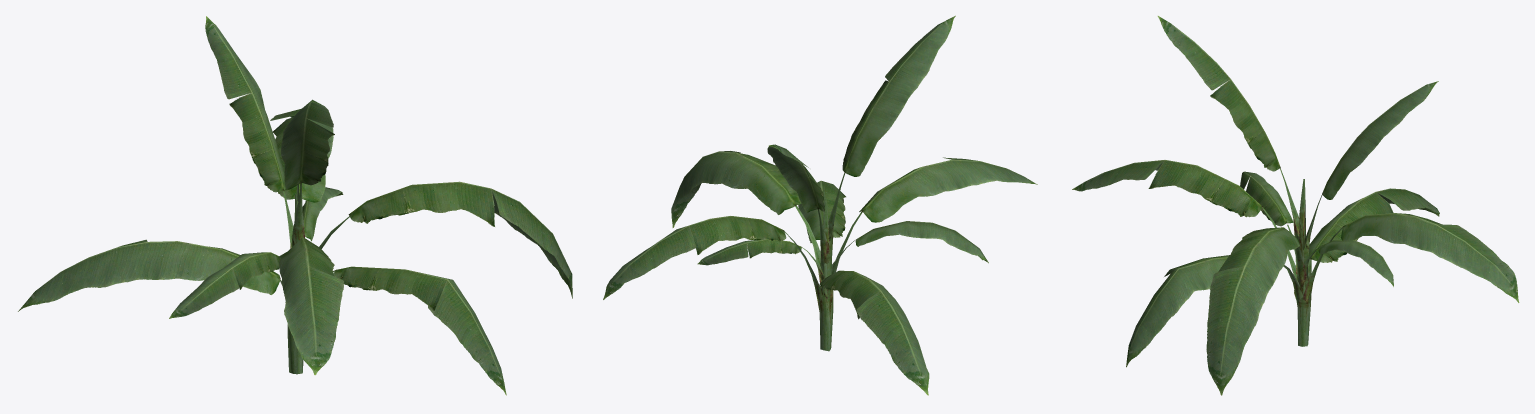
The model's file is Green_Fern_Bush_a.fbx.
The picture shows the model from 3 angles, left to right: view 1: azimuth 30°, elevation 25°; view 2: azimuth 150°, elevation 25°; view 3: azimuth 270°, elevation 25°; orthographic projection. The views are drawn at different scales.
Visible parts, largest first — view 1: leaf.LOD1; view 2: leaf.LOD1; view 3: leaf.LOD1.
Part boxes in pixels (box(x1,y1,x2,y2)): leaf.LOD1: box(18, 16, 572, 395); leaf.LOD1: box(603, 15, 1037, 395); leaf.LOD1: box(1072, 16, 1519, 395).
Size of the model in its own units: 0.2713 by 0.2106 by 0.2857.
1 material, 1 textured.
